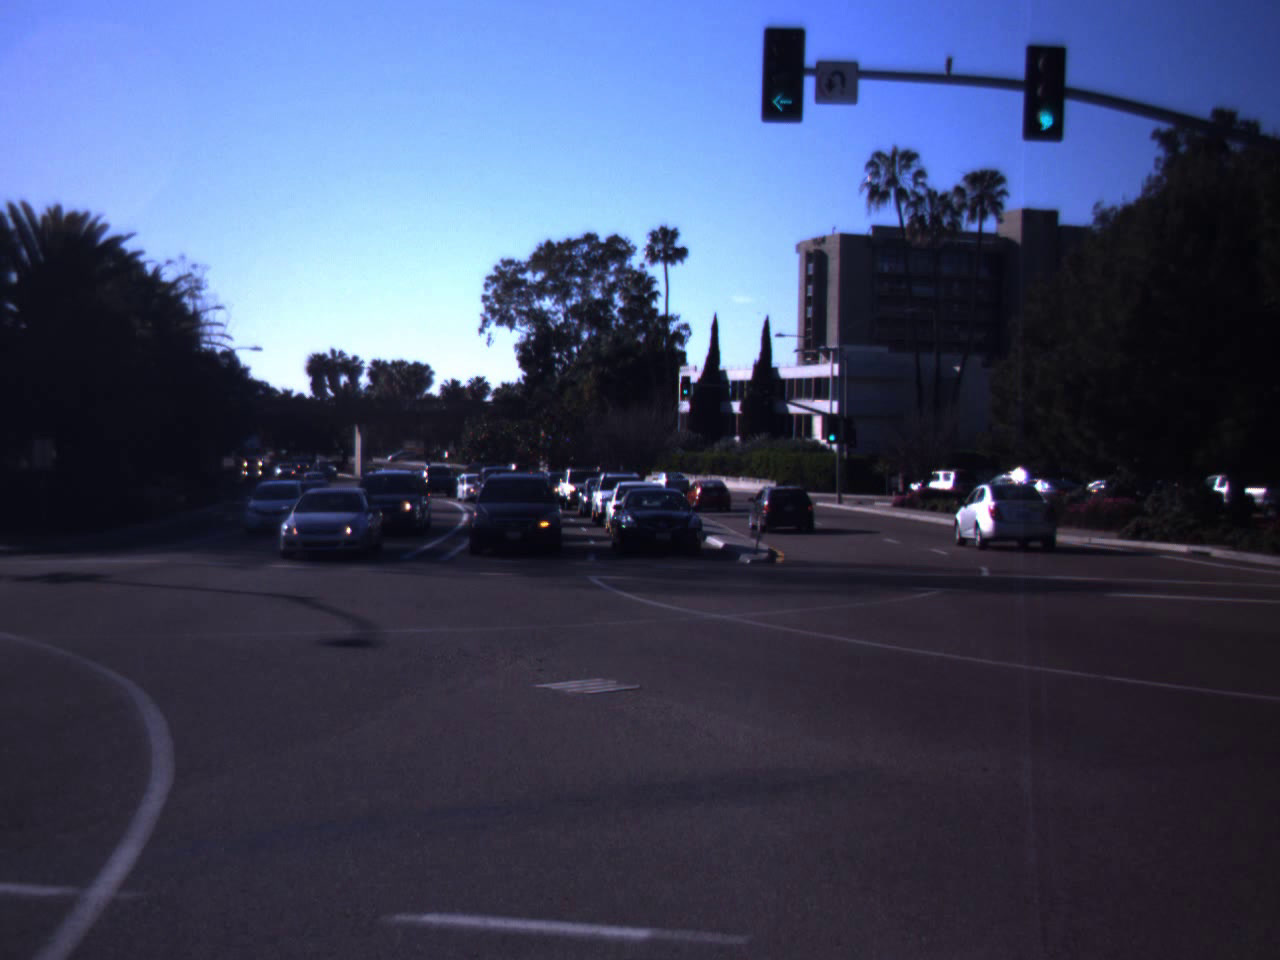go: (746, 33, 815, 118), (1028, 61, 1064, 136)
